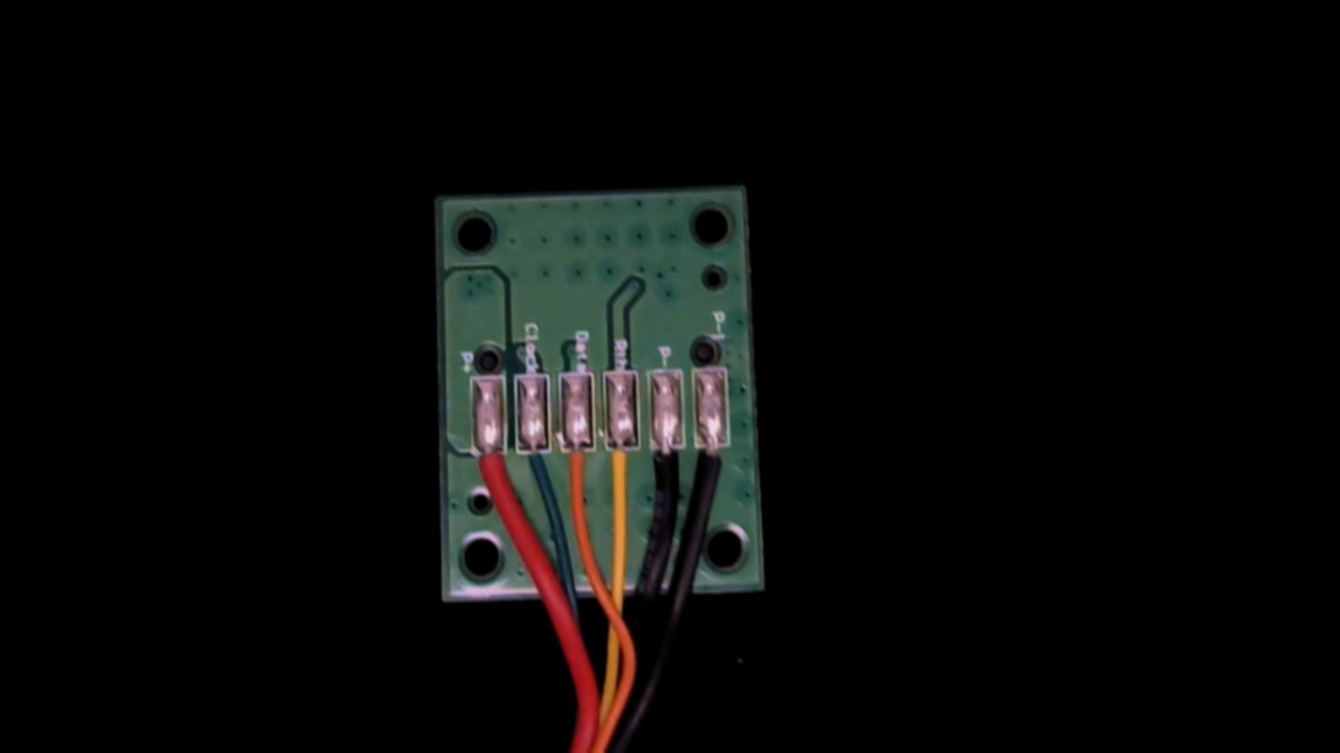Black: (645, 428, 686, 520)
Black1: (694, 429, 734, 513)
Green: (516, 428, 554, 501)
Orange: (559, 429, 597, 519)
Red: (468, 431, 507, 518)
Yellow: (601, 428, 642, 521)
